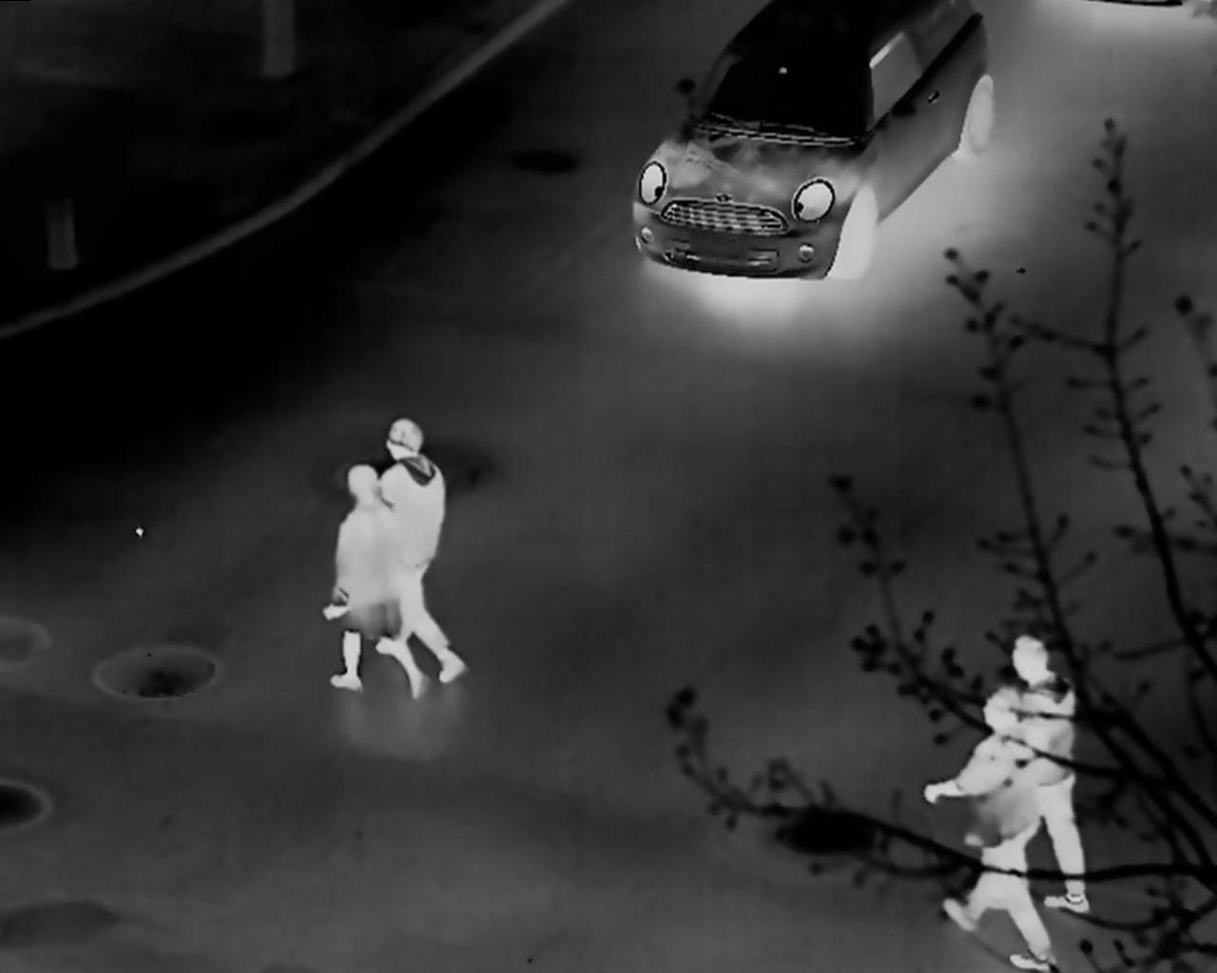person: (925, 696, 1050, 948), (368, 417, 469, 677), (1008, 638, 1091, 925), (329, 468, 425, 692)
